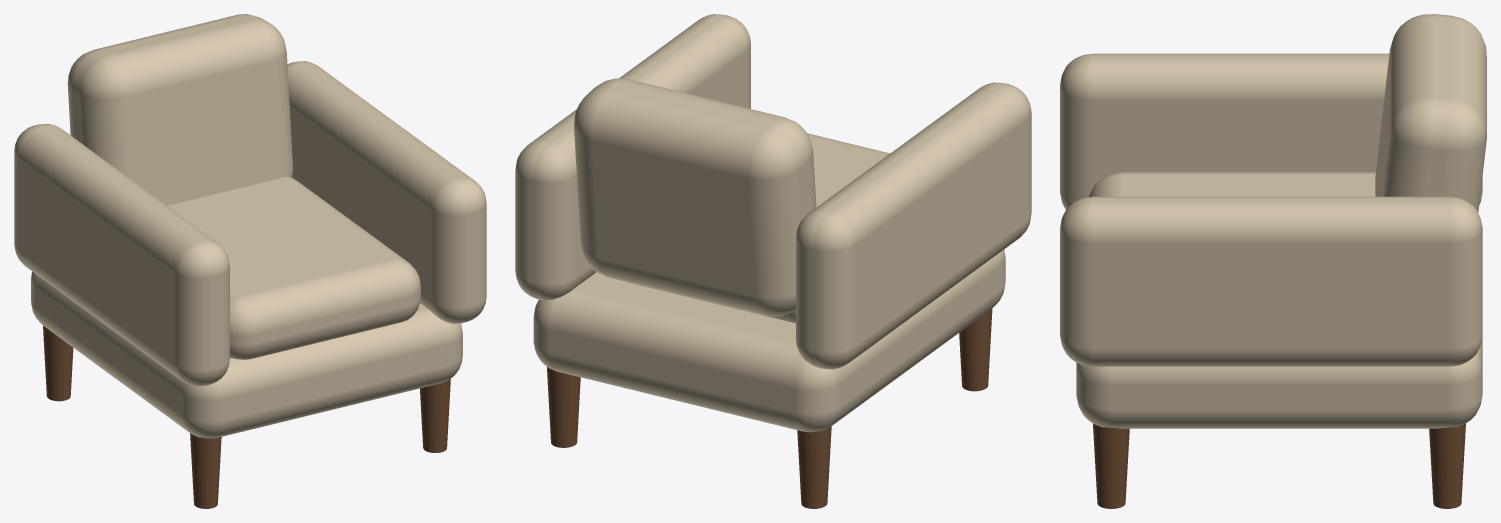
Rendered from arc-chair-oat.glb.
The picture shows the model from 3 angles, left to right: view 1: azimuth 30°, elevation 25°; view 2: azimuth 150°, elevation 25°; view 3: azimuth 270°, elevation 25°; orthographic projection. The views are drawn at different scales.
Parts seen in each view (by area): view 1: The Arc Chair — Oat; view 2: The Arc Chair — Oat; view 3: The Arc Chair — Oat.
Part boxes in pixels (<box>): The Arc Chair — Oat: <box>14,14,486,508</box>; The Arc Chair — Oat: <box>515,14,1031,508</box>; The Arc Chair — Oat: <box>1060,14,1486,508</box>.
Size of the model in its own units: 0.78 by 0.81 by 0.82.
